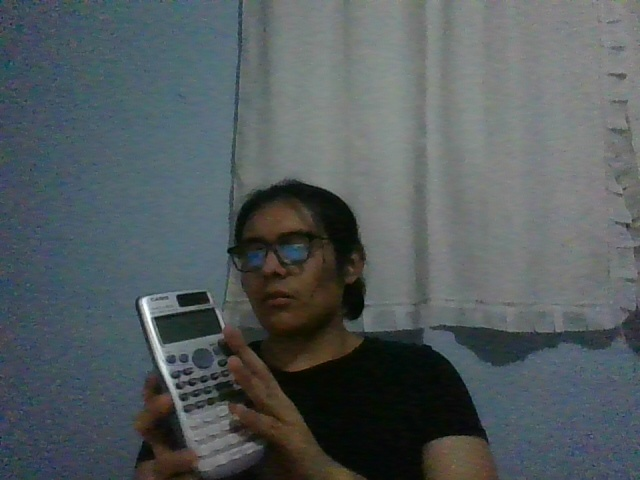calculadora: (136, 288, 267, 480)
